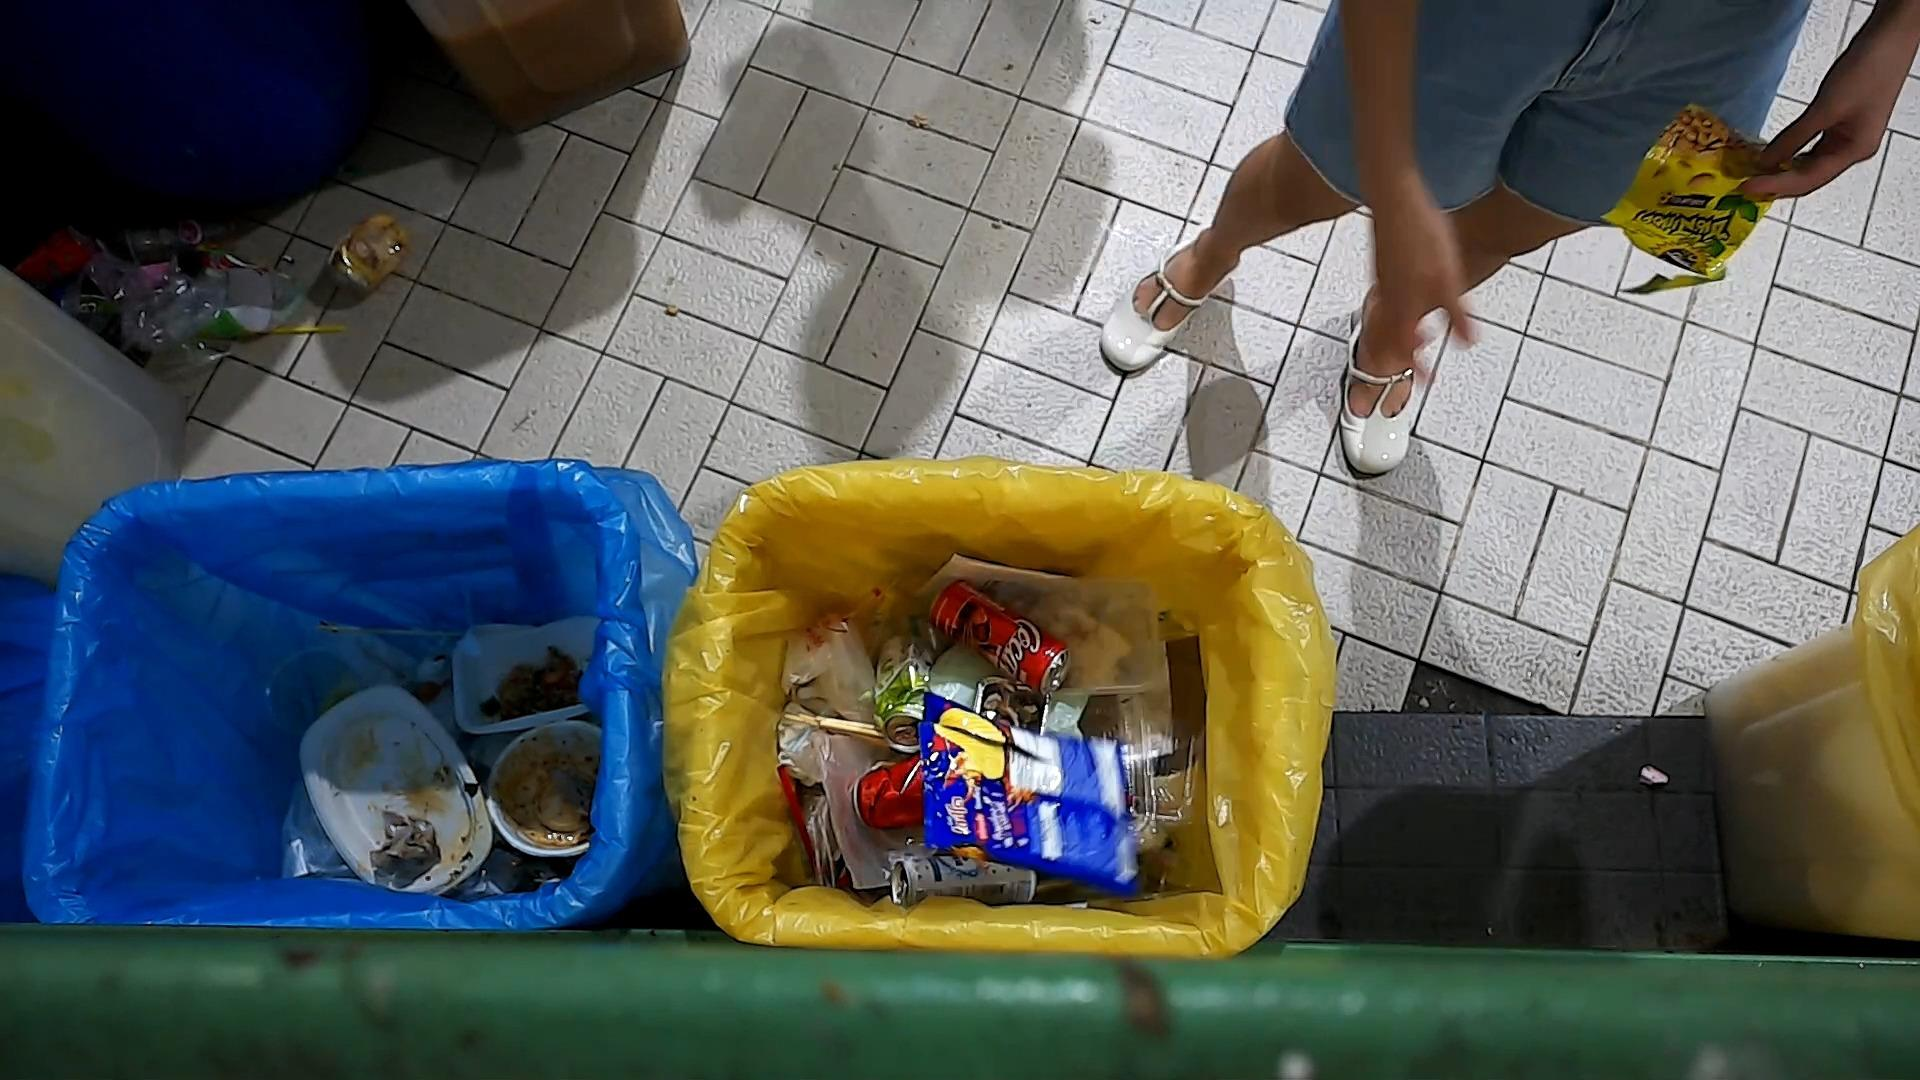can: (936, 584, 1076, 699), (889, 848, 1034, 909), (878, 629, 942, 750), (855, 756, 943, 832)
dirty food container: (301, 678, 487, 897), (481, 721, 608, 870), (447, 615, 597, 736)
snack packaging: (916, 687, 1138, 886), (1600, 103, 1778, 294)
straw: (777, 764, 827, 878)
